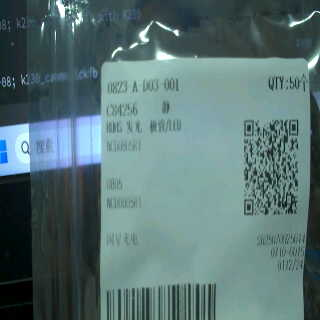LED: (123, 114, 191, 138)
